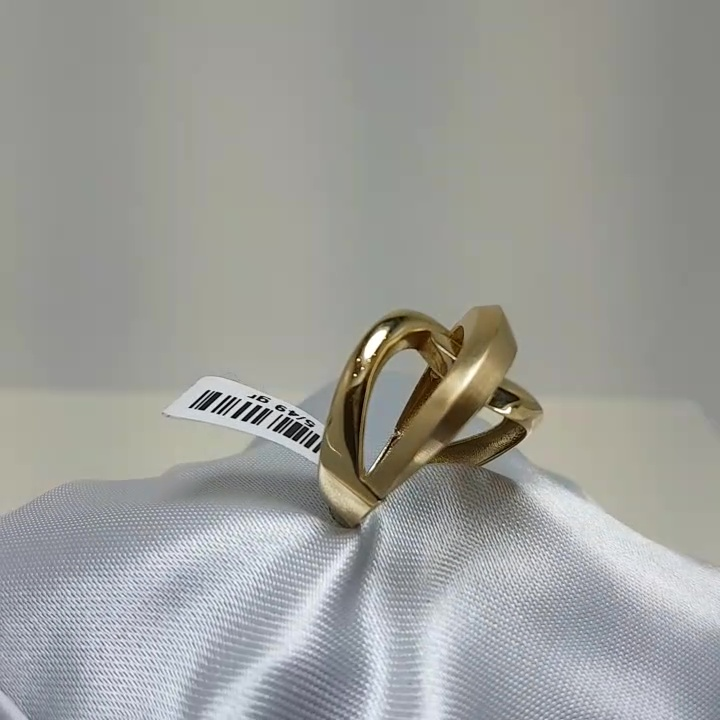Ring 3: (292, 249, 573, 523)
